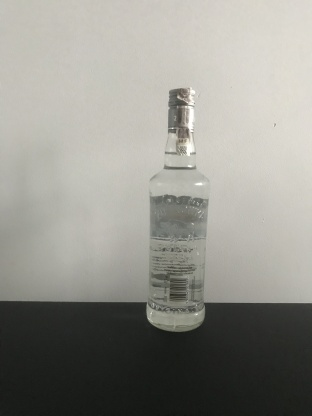nakretka: (166, 86, 197, 133)
